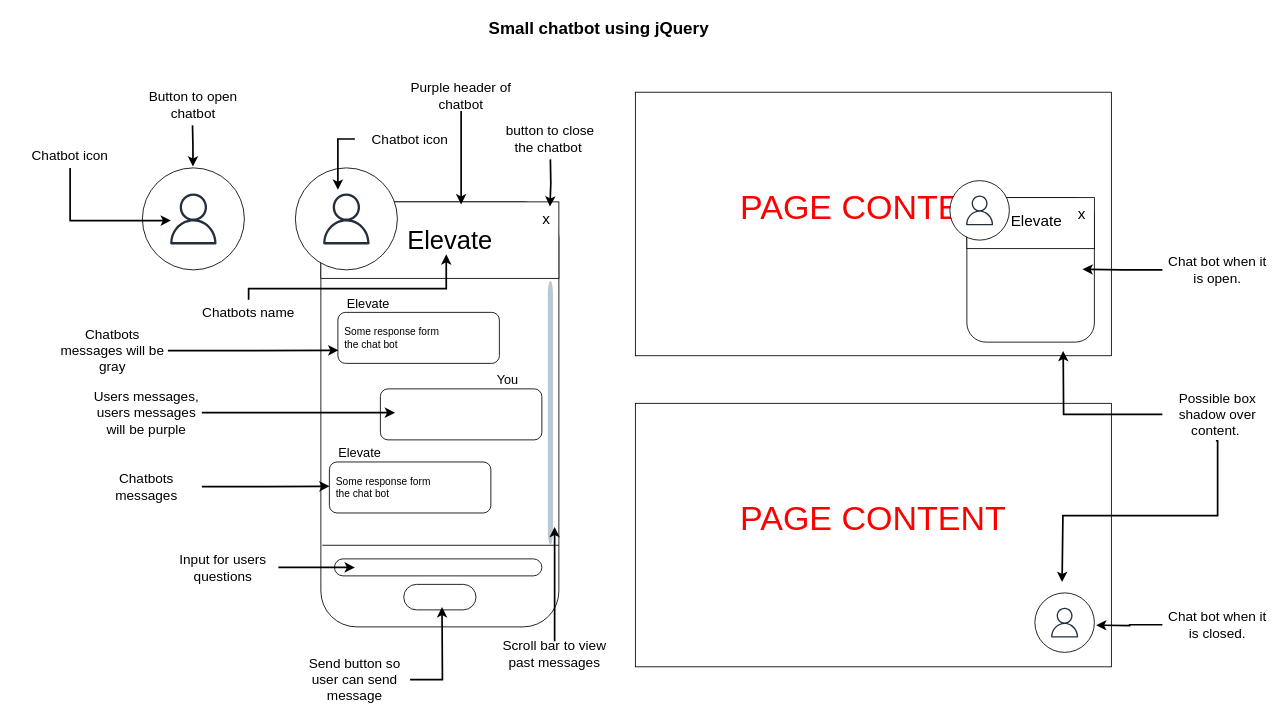
The diagram is 1287 pixels wide and 718 high, and some of its shapes have lost their labels. The shapes that lost their labels are listed below. From the top down, each one's centre as x and y in pixels, then its label:
At pixel 461 414: "Some question form the user".
At pixel 439 597: "SEND".
